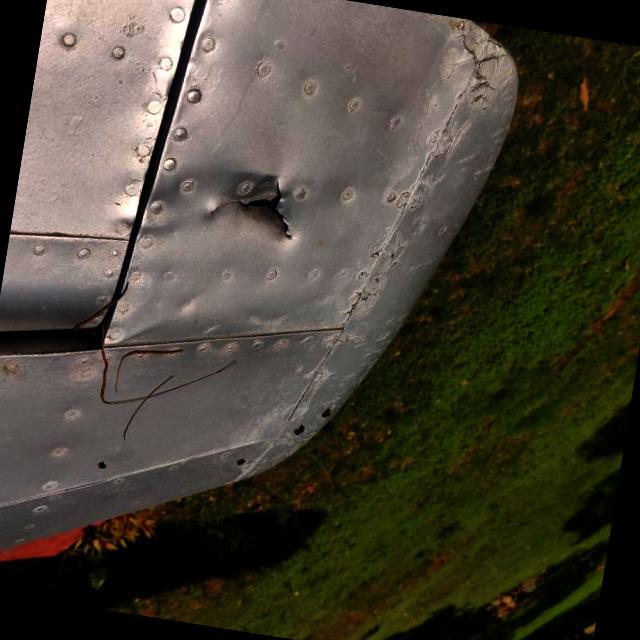crack: (194, 158, 310, 251)
